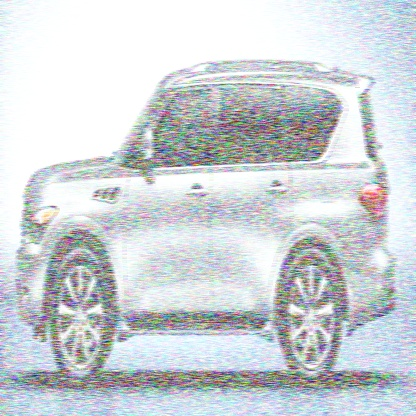Vehicle: (18, 59, 402, 387)
